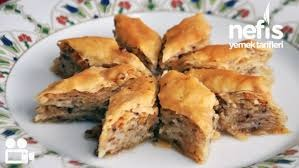baklava: (188, 68, 287, 138), (35, 64, 142, 121), (158, 70, 216, 162), (97, 75, 158, 157), (52, 36, 139, 77), (164, 44, 270, 73), (114, 14, 161, 72), (160, 13, 210, 64)
